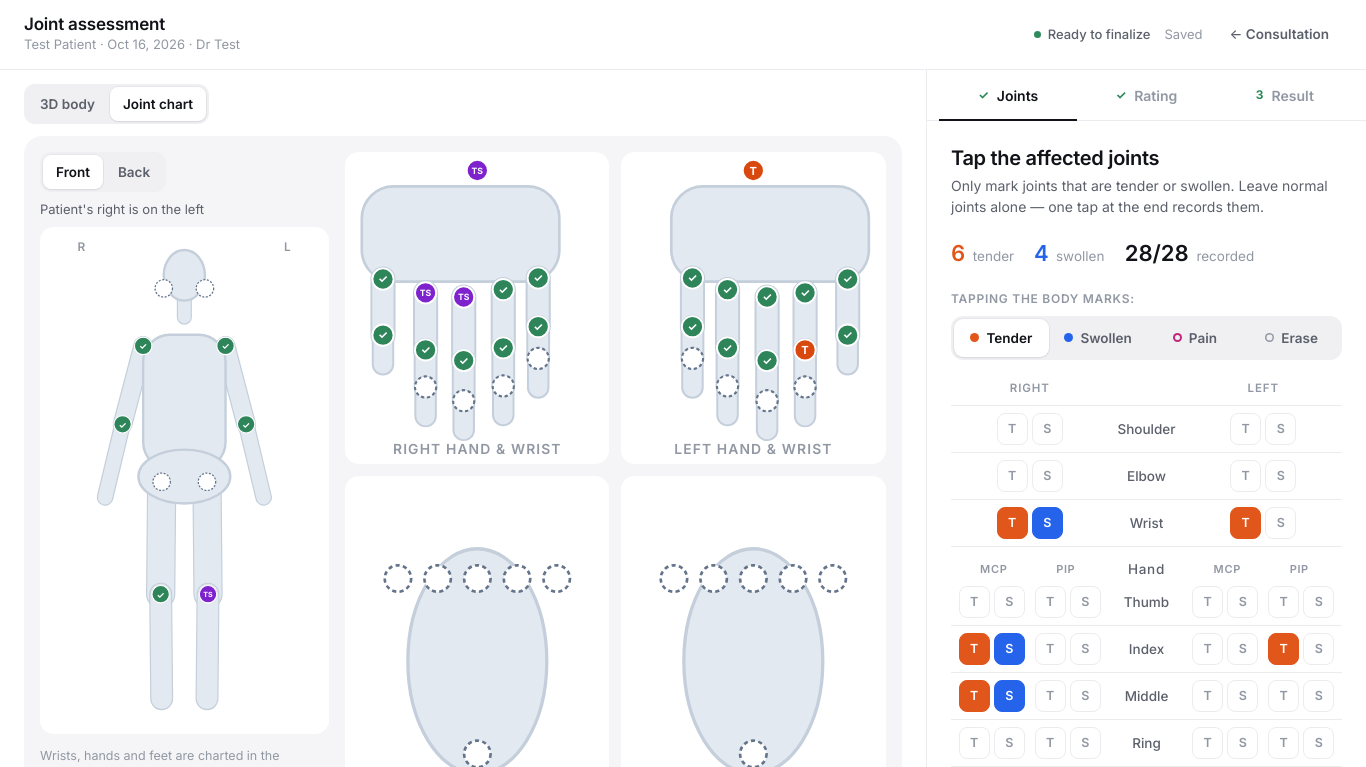
Test case: saving and reopening › reopens a saved assessment with the same findings and score (6+4+5+3 = 18)
The image size is (1366, 767).
Expected: the text with test id "assessment-status" reads "Ready to finalize", [1048,26,1150,42]
Click the button "3 Result": (1285, 95) [1216,70,1354,121]
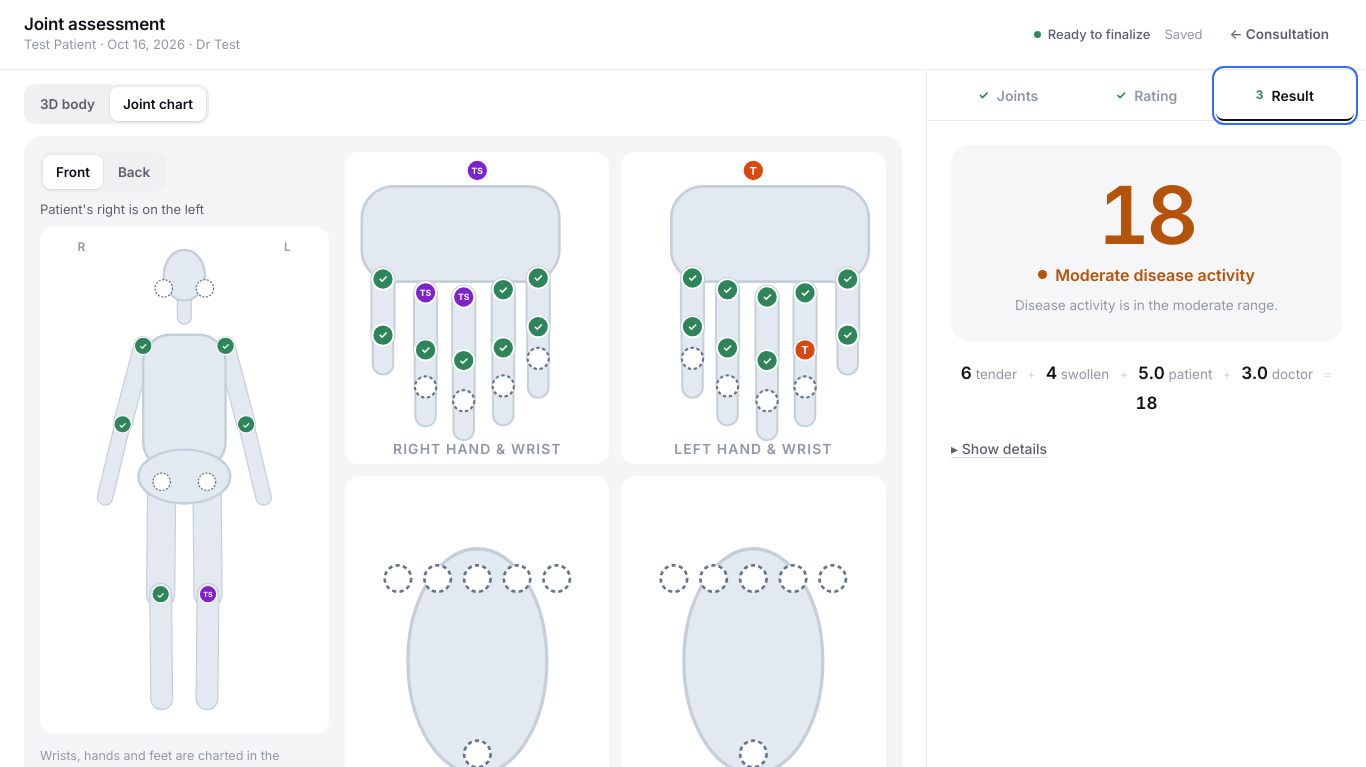
Now the text with test id "cdai-score" reads "18", box [1098,166,1195,263]
Now the element with test id "cdai-category" reads "Moderate disease activity", box [1055,265,1255,285]
